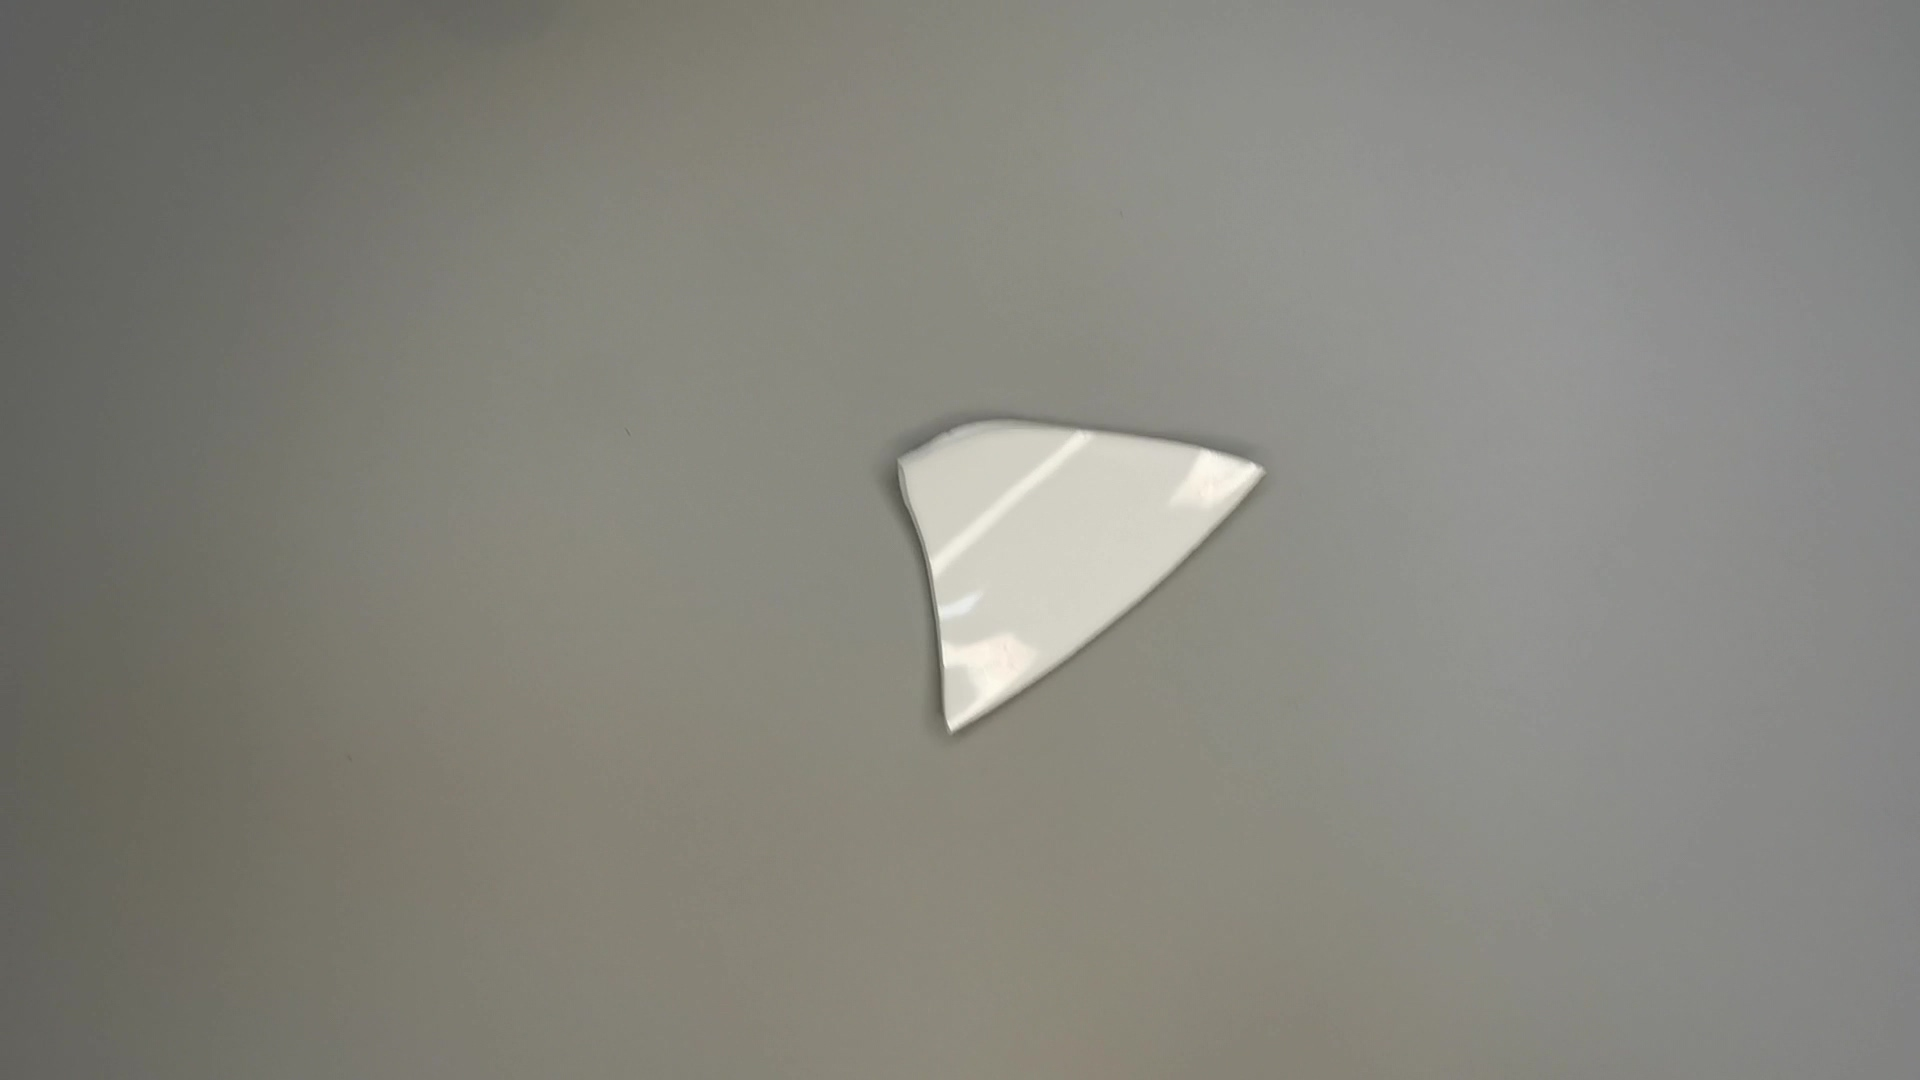ceramic: (889, 415, 1275, 738)
